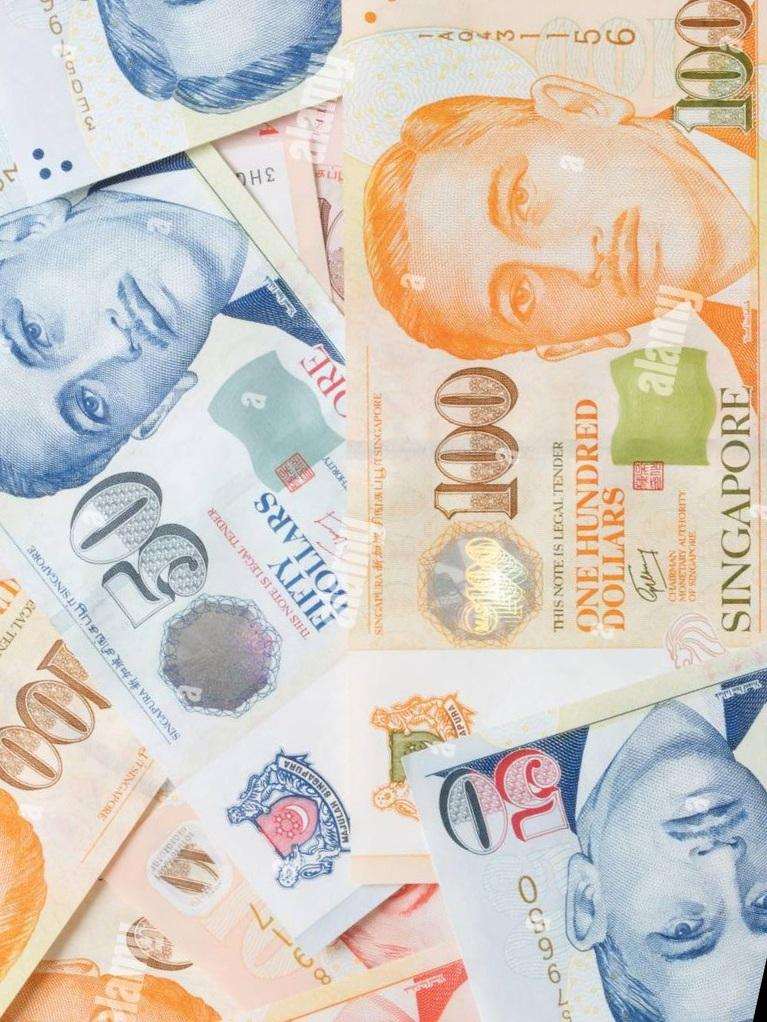100SingaporeDollar: (356, 0, 767, 667)
